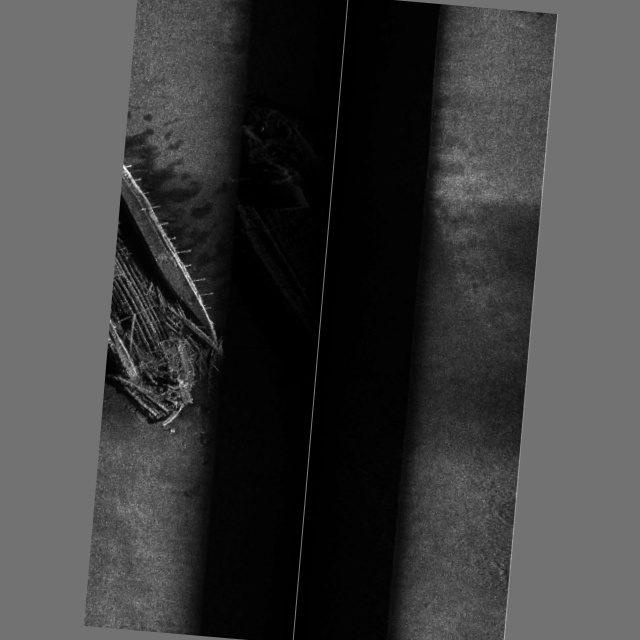Shipwreck: (100, 95, 327, 439)
